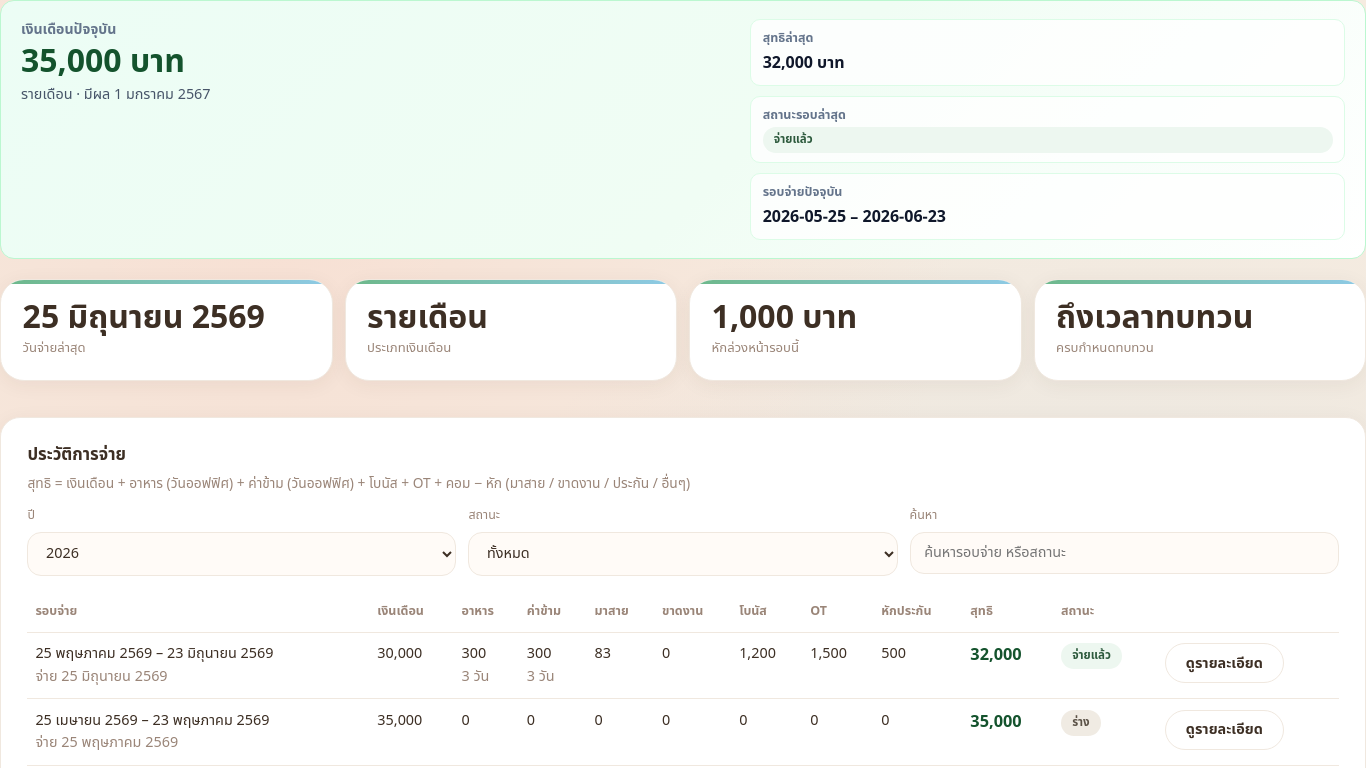
EmployeePayrollTab › filters history by status
Check: the row with test id "payroll-row-cycle-1" is shown, box [27, 632, 1339, 699]
Select "ร่าง" in the dropdown with test id "payroll-filter-status" at (683, 554), box [468, 532, 898, 576]
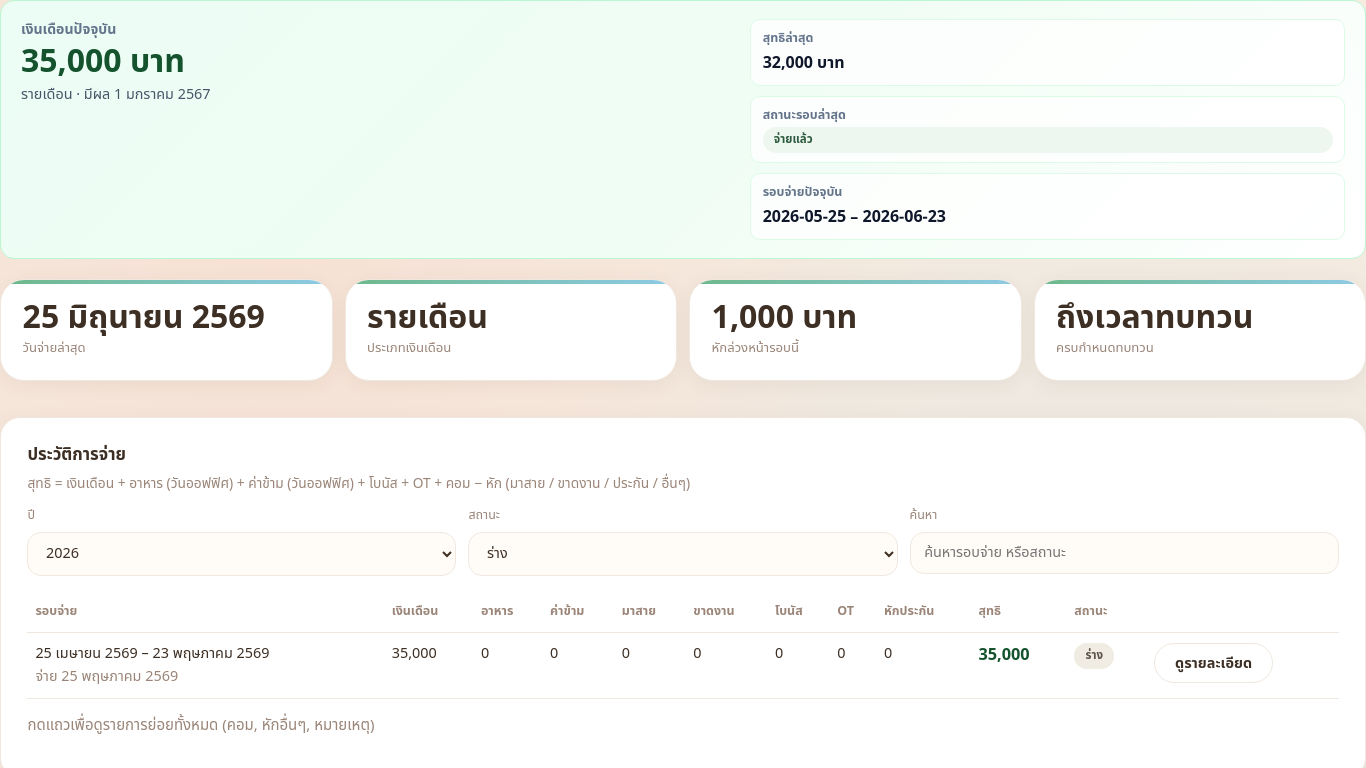
Check: the row with test id "payroll-row-cycle-2" is shown, box [27, 632, 1339, 699]
Check: the row with test id "payroll-row-cycle-1" is gone
